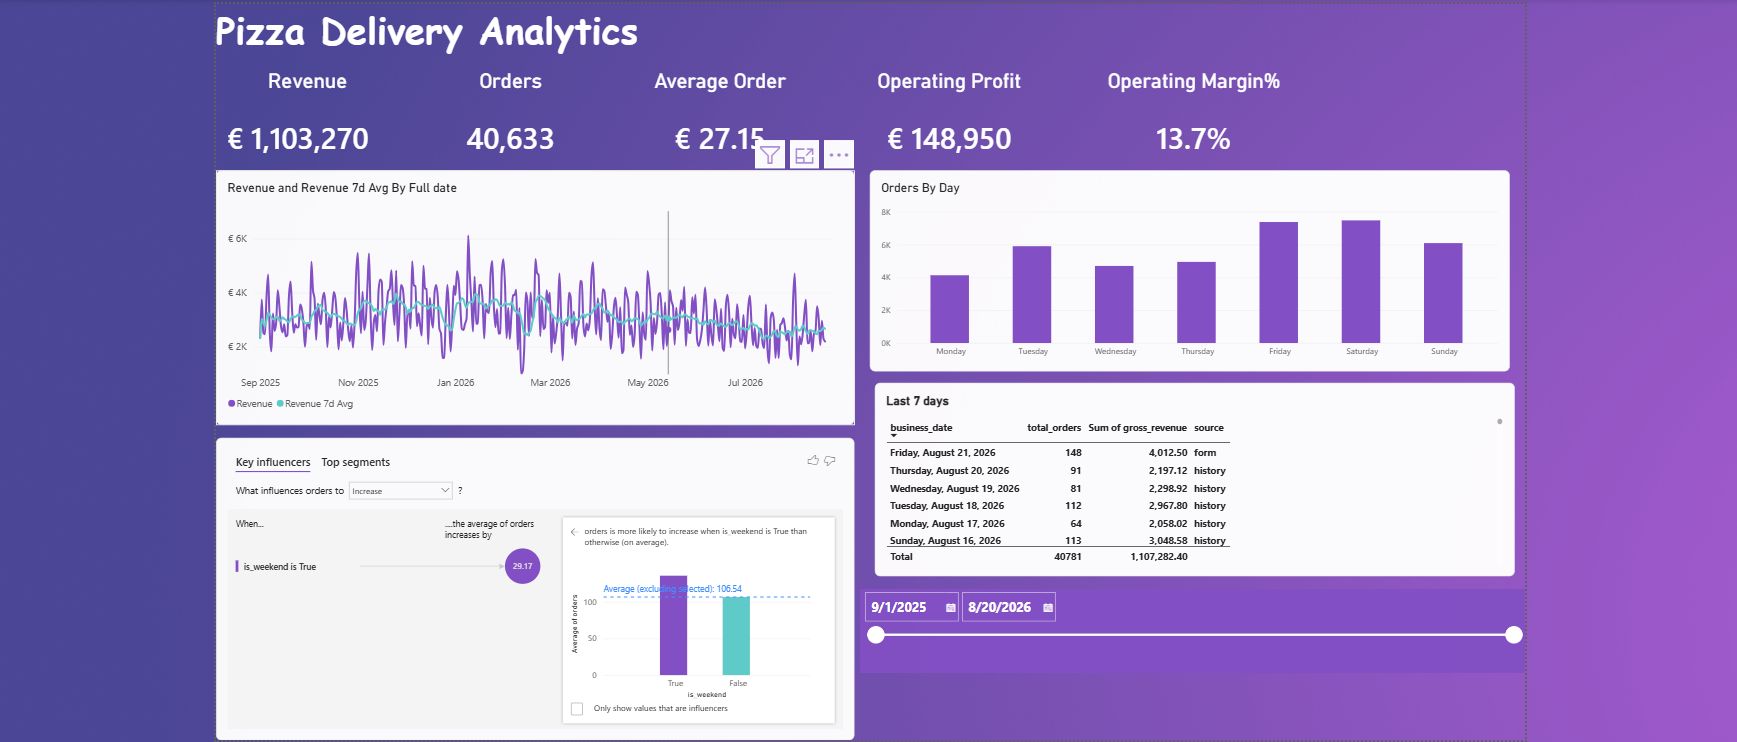

What the dashboard file says about the page in this screenshot:
{"tool":"powerbi","page":{"name":"Overview","canvas":[1920,1080],"ordinal":0},"visuals":[{"type":"textbox","box":[0,0,1920.4,119.4],"z":0},{"type":"cardVisual","title":"Revenue","fields":{"Data":["_Measure.Revenue"]},"box":[0,94.9,268.6,149.4],"z":1000},{"type":"cardVisual","title":"Orders","fields":{"Data":["_Measure.Orders"]},"box":[268.6,94.9,329.2,149.4],"z":2000},{"type":"cardVisual","title":"Average Order","fields":{"Data":["_Measure.Avg Order Value"]},"box":[575.5,94.9,327.1,149.4],"z":3000},{"type":"cardVisual","title":"Operating Profit","fields":{"Data":["_Measure.Operating Profit"]},"box":[902.7,94.9,347.3,149.4],"z":4000},{"type":"cardVisual","title":"Operating Margin%","fields":{"Data":["_Measure.Operating Margin %"]},"box":[1250,94.9,371.6,149.4],"z":5000},{"type":"lineChart","title":"Revenue and Revenue 7d Avg By Full date","fields":{"Category":["mart dim_date.full_date"],"Y":["_Measure.Revenue","_Measure.Revenue 7d Avg"]},"box":[0,244.3,937,373.6],"z":6000},{"type":"clusteredColumnChart","title":"Orders By Day","fields":{"Category":["mart dim_date.day_name"],"Y":["_Measure.Orders"]},"box":[959.2,244.3,912.8,373.6],"z":7000},{"type":"keyDriversVisual","fields":{"ExplainBy":["mart dim_date.is_rainy","mart dim_date.is_weekend","mart dim_date.is_public_holiday"],"Target":["mart kpi_daily.orders"]},"box":[0,636.1,937,444.3],"z":8000},{"type":"slicer","fields":{"Values":["mart dim_date.full_date"]},"box":[959,636,913,444],"z":9000}]}

Visuals, with their boxes on the page's 1920x1080 design canvas (x1, y1, x2, y2). These are canvas units, not pixel positions in the 1737x742 screenshot, which may show the page scaled, cropped or inside an application window:
textbox: 0/0/1920/119
"Revenue" cardVisual: 0/95/269/244
"Orders" cardVisual: 269/95/598/244
"Average Order" cardVisual: 576/95/903/244
"Operating Profit" cardVisual: 903/95/1250/244
"Operating Margin%" cardVisual: 1250/95/1622/244
"Revenue and Revenue 7d Avg By Full date" lineChart: 0/244/937/618
"Orders By Day" clusteredColumnChart: 959/244/1872/618
keyDriversVisual - mart dim_date.is_rainy x mart dim_date.is_weekend: 0/636/937/1080
slicer - mart dim_date.full_date: 959/636/1872/1080
